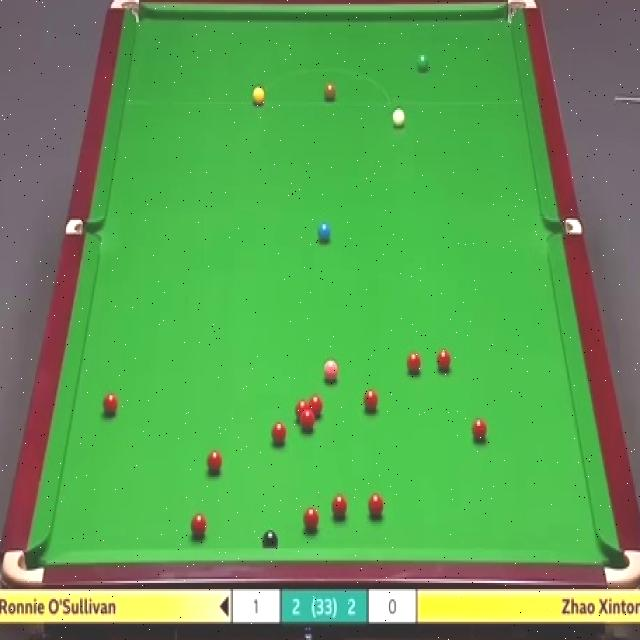black-ball: (262, 530, 278, 549)
blue-ball: (316, 218, 331, 244)
brown-ball: (324, 83, 336, 101)
green-ball: (414, 53, 430, 73)
pink-ball: (323, 355, 339, 383)
red-ball: (102, 391, 120, 419), (470, 420, 488, 446), (406, 350, 422, 379), (206, 448, 222, 476), (190, 512, 207, 538), (368, 492, 384, 519), (332, 494, 348, 520), (304, 506, 319, 532), (363, 388, 378, 414), (436, 350, 451, 375), (309, 395, 323, 420), (272, 421, 286, 445), (301, 412, 315, 432), (296, 399, 308, 420)
white-ball: (391, 105, 407, 130)
yellow-ball: (251, 84, 265, 105)
